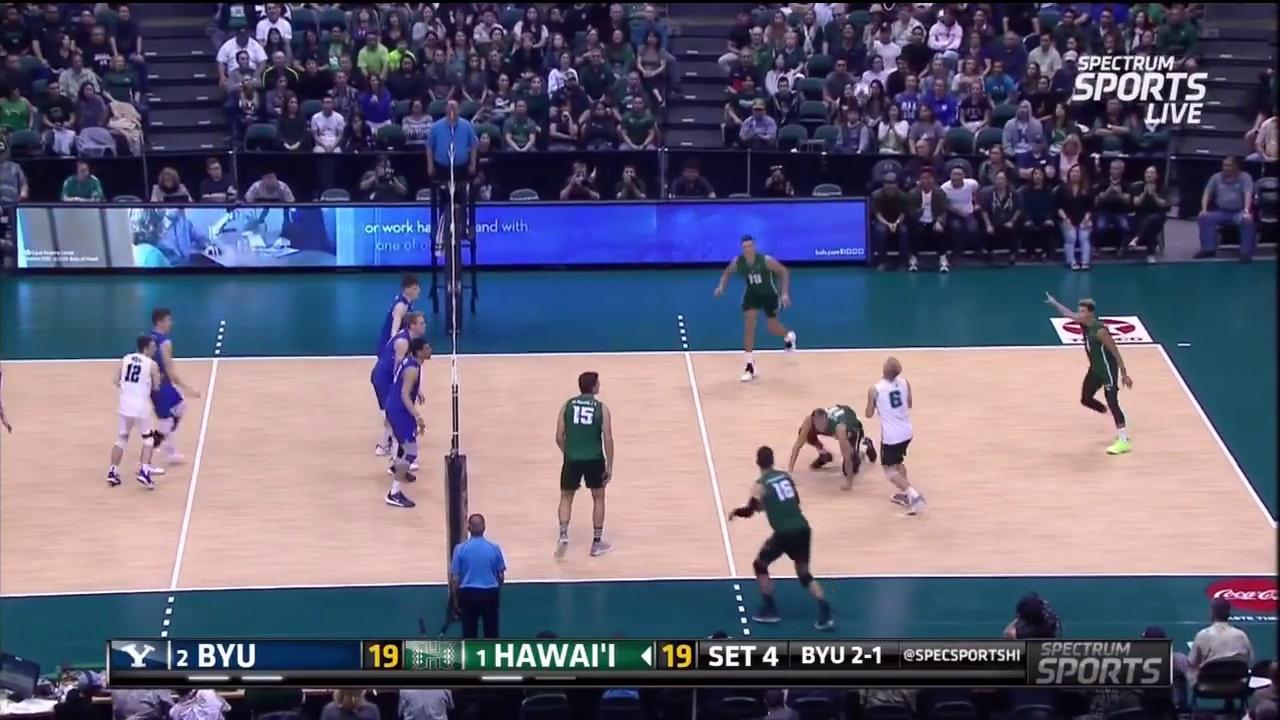player: (731, 448, 840, 625), (1047, 298, 1144, 452), (710, 237, 801, 379), (549, 374, 618, 556), (141, 306, 201, 465), (369, 309, 431, 456), (866, 361, 924, 514), (109, 334, 163, 494), (379, 267, 424, 449), (785, 403, 879, 486), (394, 336, 436, 520)
refree: (433, 501, 511, 641), (424, 94, 489, 236)
